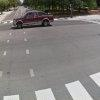cars: (14, 11, 54, 29)
